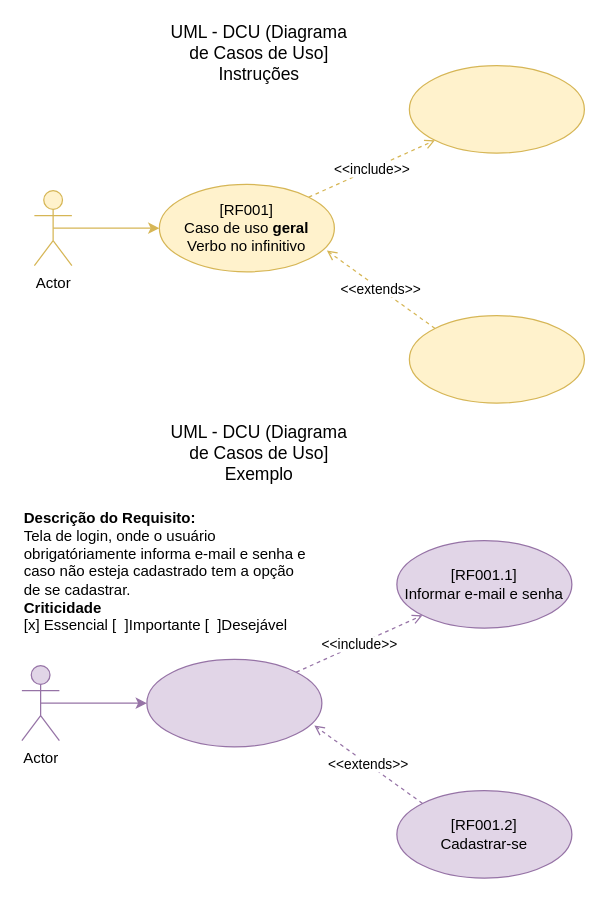
Some shapes in this 606 by 900 pixel diagram are drawn without their labels. The centre of each missing label's shape, as x and y in pixels:
[RF001.1] Caso de uso específico obrigatório: (496,108)
[RF001.2] Caso de específico opcional: (496,358)
[RF001] Fazer login: (234,702)
